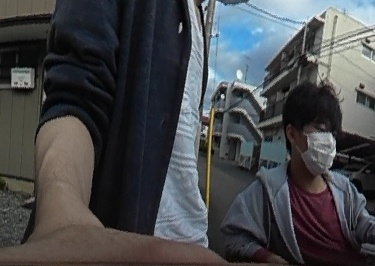person: (222, 81, 375, 266)
